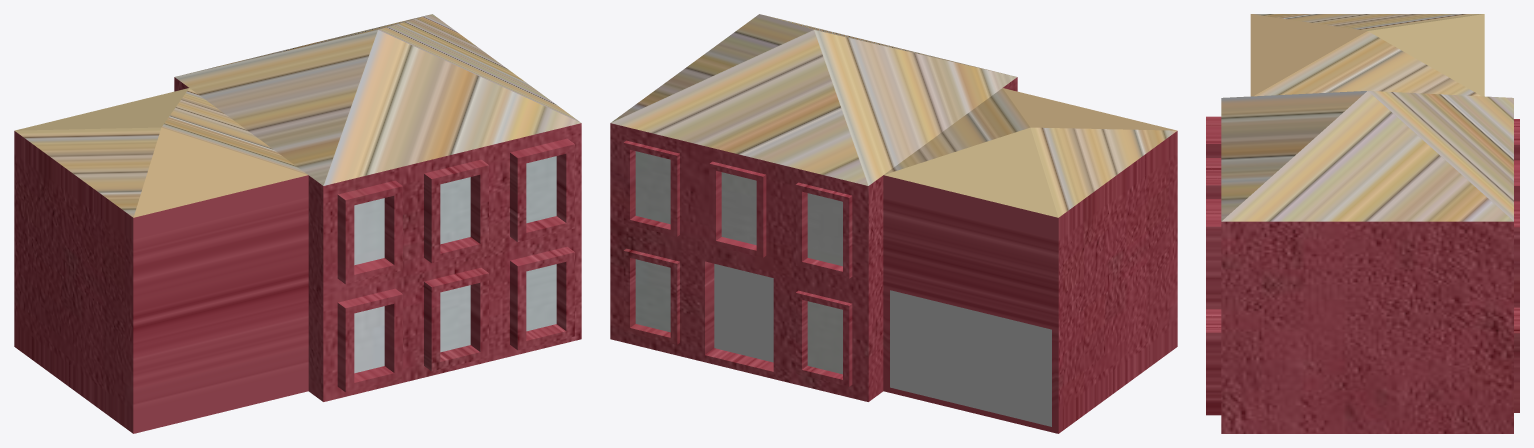
File: house.fbx
The picture shows the model from 3 angles, left to right: view 1: azimuth 30°, elevation 25°; view 2: azimuth 150°, elevation 25°; view 3: azimuth 270°, elevation 25°; orthographic projection.
Parts seen in each view (by area): view 1: Cube.001, Cube.003, Cube.000; view 2: Cube.001, Cube.003, Cube.002, Cube.000; view 3: Cube.001, Cube.003.
Boxes of the visible parts, <box> form: Cube.001: <box>14,77,581,433</box>; Cube.003: <box>15,14,580,217</box>; Cube.000: <box>354,156,556,373</box>; Cube.001: <box>610,77,1177,433</box>; Cube.003: <box>611,14,1176,217</box>; Cube.002: <box>714,264,1051,426</box>; Cube.000: <box>635,151,842,374</box>; Cube.001: <box>1206,116,1519,433</box>; Cube.003: <box>1221,14,1513,221</box>.
Bounding box in the file's own units: 839 × 530 × 536.
